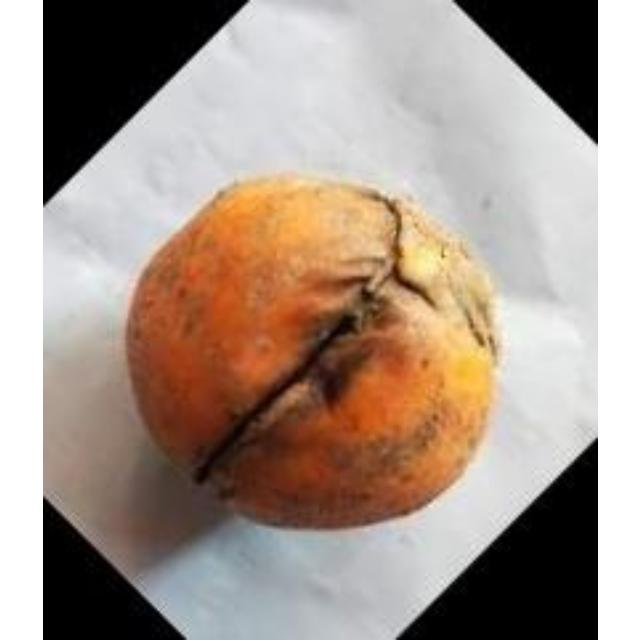damaged: (122, 170, 504, 534)
